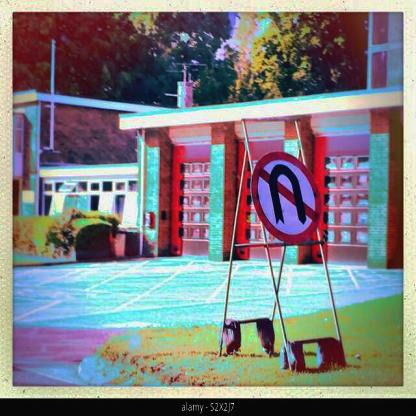No U-turn: (250, 146, 327, 249)
